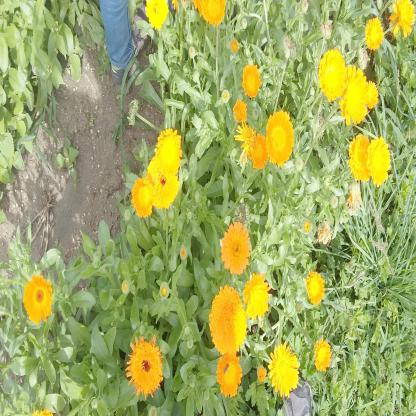marigold: (212, 290, 245, 353), (130, 340, 162, 396), (338, 70, 366, 124), (270, 345, 299, 396), (148, 160, 178, 207), (224, 223, 250, 272), (269, 113, 293, 165), (320, 51, 345, 100), (25, 278, 52, 323), (349, 134, 372, 183), (367, 140, 390, 188), (243, 277, 268, 320), (218, 355, 242, 394), (158, 131, 179, 174), (250, 135, 271, 171), (133, 179, 151, 217), (147, 0, 170, 26), (366, 19, 383, 51), (206, 0, 226, 22)
